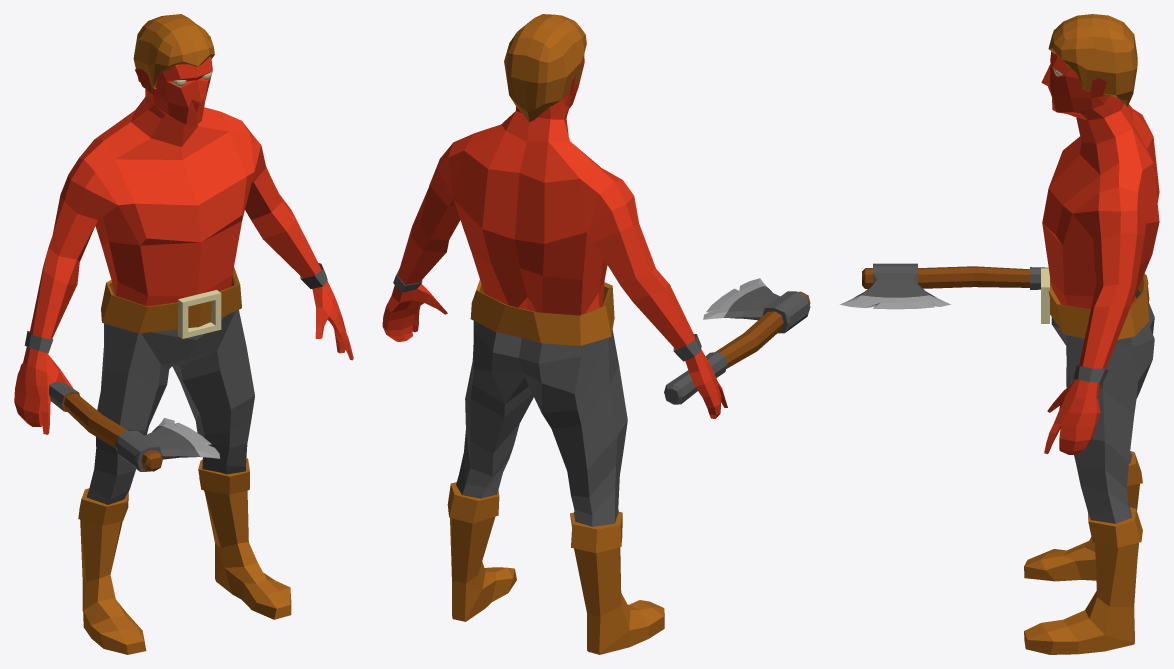
File: Monster.fbx
The picture shows the model from 3 angles, left to right: view 1: azimuth 30°, elevation 25°; view 2: azimuth 150°, elevation 25°; view 3: azimuth 270°, elevation 25°; orthographic projection.
Visible parts, largest first — view 1: male.002, pants.002, shoes.002, Plane.003, Cube.009, belt.002, Cube.007, ring.002; view 2: male.002, pants.002, shoes.002, Cube.009, Plane.003, belt.002, ring.002; view 3: male.002, shoes.002, pants.002, Plane.003, Cube.009, belt.002, Cube.007, ring.002.
Boxes of the visible parts, x1=… form: male.002: x1=14, y1=56, x2=353, y2=434; pants.002: x1=86, y1=310, x2=254, y2=504; shoes.002: x1=78, y1=458, x2=291, y2=654; Plane.003: x1=20, y1=364, x2=220, y2=471; Cube.009: x1=133, y1=14, x2=214, y2=89; belt.002: x1=101, y1=267, x2=241, y2=333; Cube.007: x1=178, y1=290, x2=221, y2=338; ring.002: x1=24, y1=263, x2=327, y2=353; male.002: x1=382, y1=55, x2=727, y2=418; pants.002: x1=456, y1=321, x2=627, y2=526; shoes.002: x1=447, y1=482, x2=664, y2=654; Cube.009: x1=504, y1=14, x2=586, y2=122; Plane.003: x1=664, y1=278, x2=810, y2=404; belt.002: x1=470, y1=280, x2=614, y2=345; ring.002: x1=393, y1=268, x2=701, y2=361; male.002: x1=1041, y1=52, x2=1159, y2=454; shoes.002: x1=1024, y1=451, x2=1142, y2=654; pants.002: x1=1051, y1=290, x2=1154, y2=523; Plane.003: x1=840, y1=263, x2=1048, y2=309; Cube.009: x1=1048, y1=14, x2=1137, y2=106; belt.002: x1=1048, y1=273, x2=1149, y2=339; Cube.007: x1=1041, y1=268, x2=1049, y2=323; ring.002: x1=1073, y1=364, x2=1108, y2=384.
Bounding box in the file's own units: 168 × 291 × 143.
